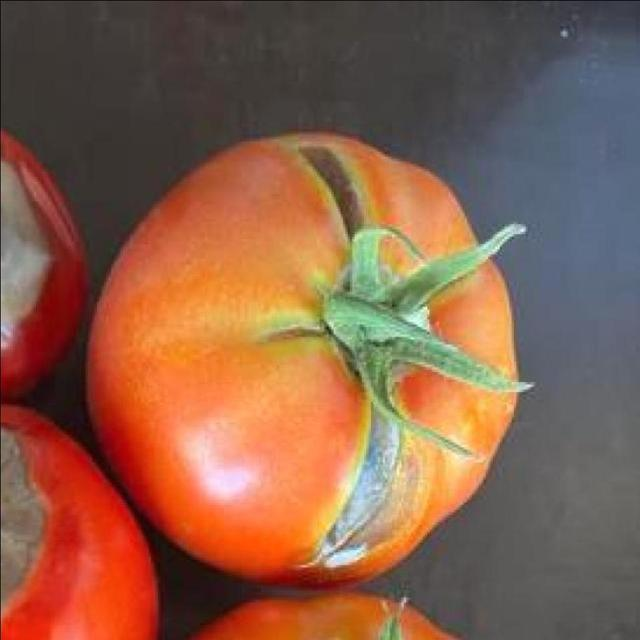Blossom End Rot Fruit: (16, 129, 36, 349)
